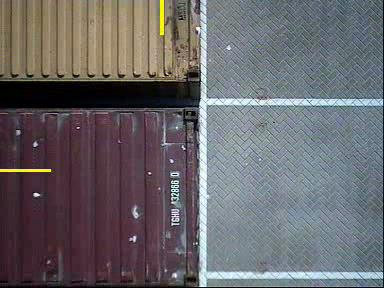groundmarker_2: (164, 44, 268, 100)
